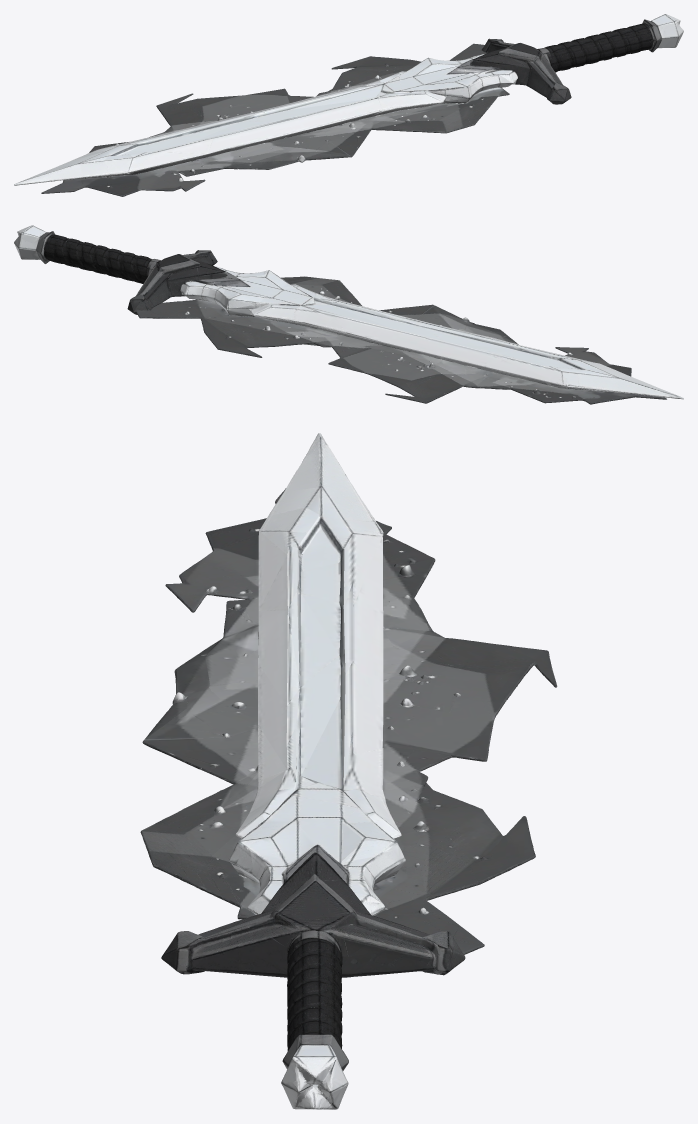
Rendered from c10h8-sword-lowpoly.glb.
The picture shows the model from 3 angles, top to bottom: view 1: azimuth 30°, elevation 25°; view 2: azimuth 150°, elevation 25°; view 3: azimuth 270°, elevation 25°; orthographic projection. The views are drawn at different scales.
Visible parts, largest first — view 1: Frostshard Broadsword; view 2: Frostshard Broadsword; view 3: Frostshard Broadsword.
Boxes of the visible parts, x1,y1,x2,y2 form: Frostshard Broadsword: [14, 14, 683, 196]; Frostshard Broadsword: [14, 225, 683, 404]; Frostshard Broadsword: [140, 433, 557, 1109].
Bounding box in the file's own units: 1.9 × 0.0993 × 0.5164.
Materials: 1 (1 with a texture image).
